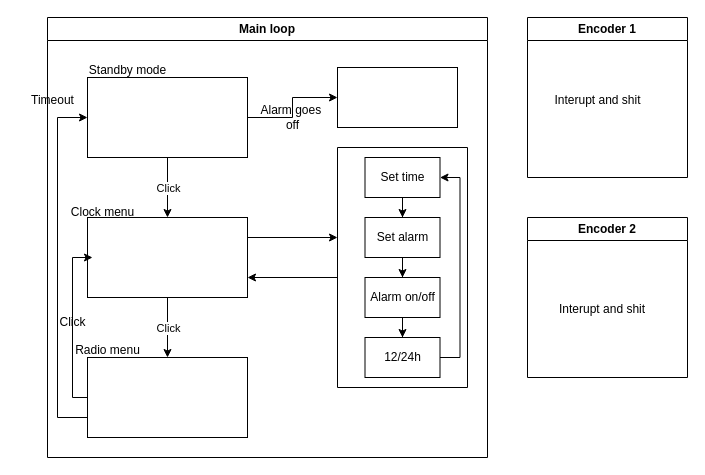
This 705x475 diagram has some shape labels left out. Here are the shapes that lost their labels. From the top down, the centre of each, then its label:
(167,117): 10:35 Day Radio Alarm on/off
(397,97): Alarm mode (change button functions)
(167,257): 10:35 12/24h 7:25 Alarm On/Off
(167,397): 101.9 FM channel name/info
